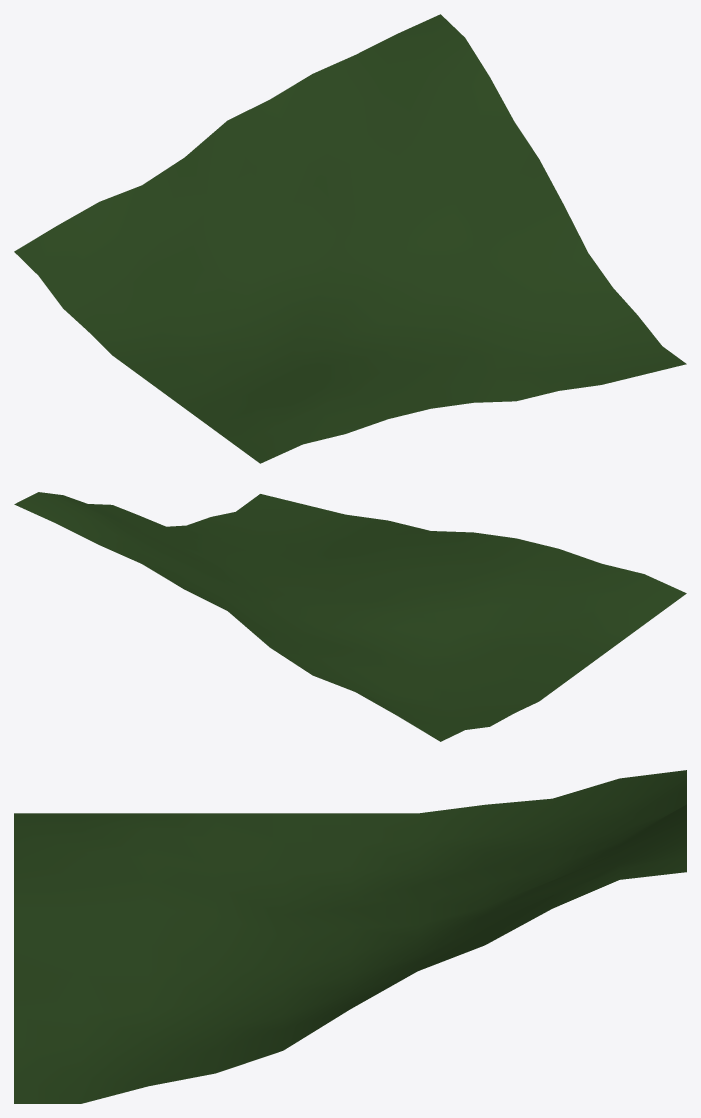
The picture shows the model from 3 angles, top to bottom: view 1: azimuth 30°, elevation 25°; view 2: azimuth 150°, elevation 25°; view 3: azimuth 270°, elevation 25°; orthographic projection. The views are drawn at different scales.
Parts seen in each view (by area): view 1: TerrainModel.072; view 2: TerrainModel.072; view 3: TerrainModel.072.
Part boxes in pixels (x1,y1,x2,y2): TerrainModel.072: (14,14,686,463); TerrainModel.072: (14,492,686,741); TerrainModel.072: (14,770,686,1103).
Bounding box in the file's own units: 19608 × 7451 × 19608.
